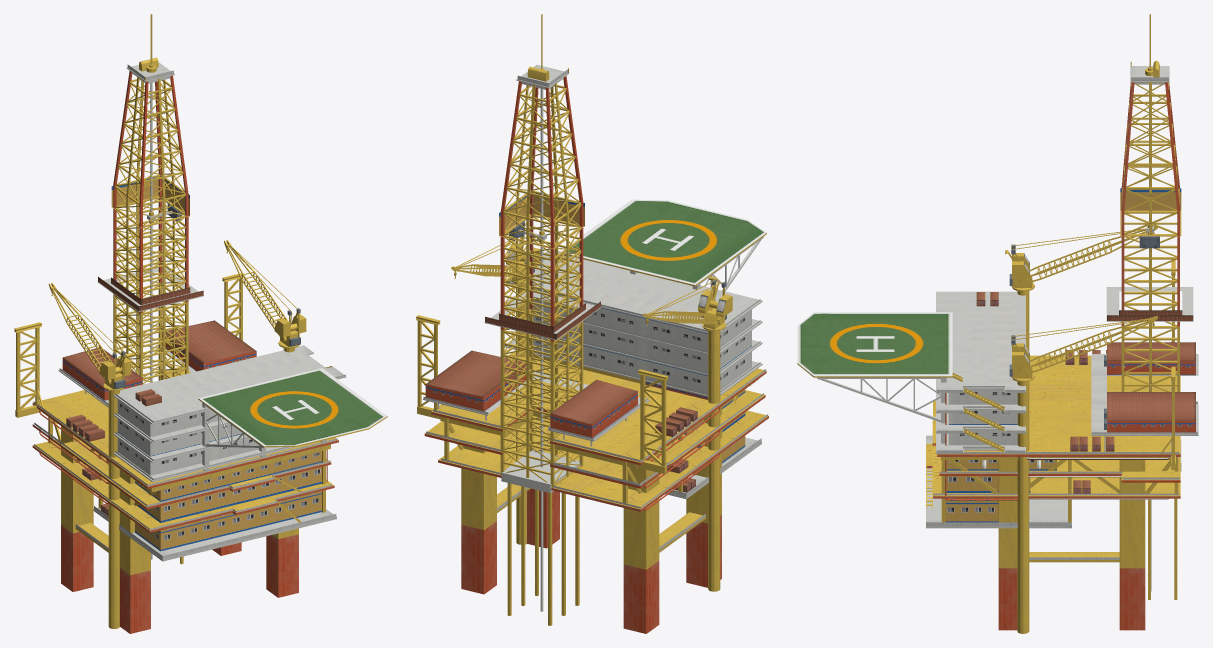
File: zjpt.gltf
3 views of the same model, side by side, from view 1: azimuth 30°, elevation 25°; view 2: azimuth 150°, elevation 25°; view 3: azimuth 270°, elevation 25° (orthographic). The views are drawn at different scales.
Parts seen in each view (by area): view 1: polySurface263; view 2: polySurface263; view 3: polySurface263.
Boxes of the visible parts, x1,y1,x2,y2 form: polySurface263: (14,14,387,633); polySurface263: (416,14,768,633); polySurface263: (797,14,1198,633).
Bounding box in the file's own units: 33.6 × 76.73 × 48.35.
1 material, 1 textured.
